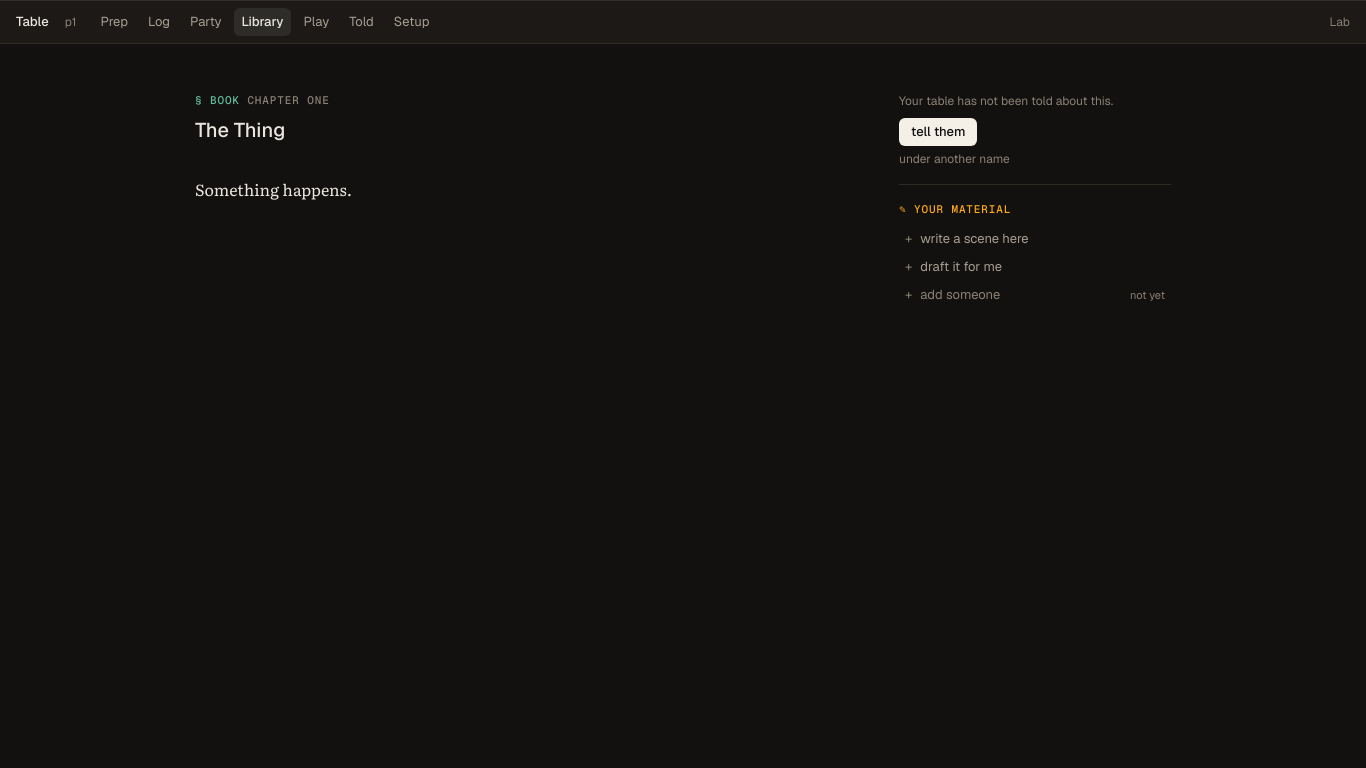
Test: storing an edited draft › shows the DM's edited words in the stored block, not the model's
Click the button "+ draft it for me" at [961, 266], box [899,253,1171,281]
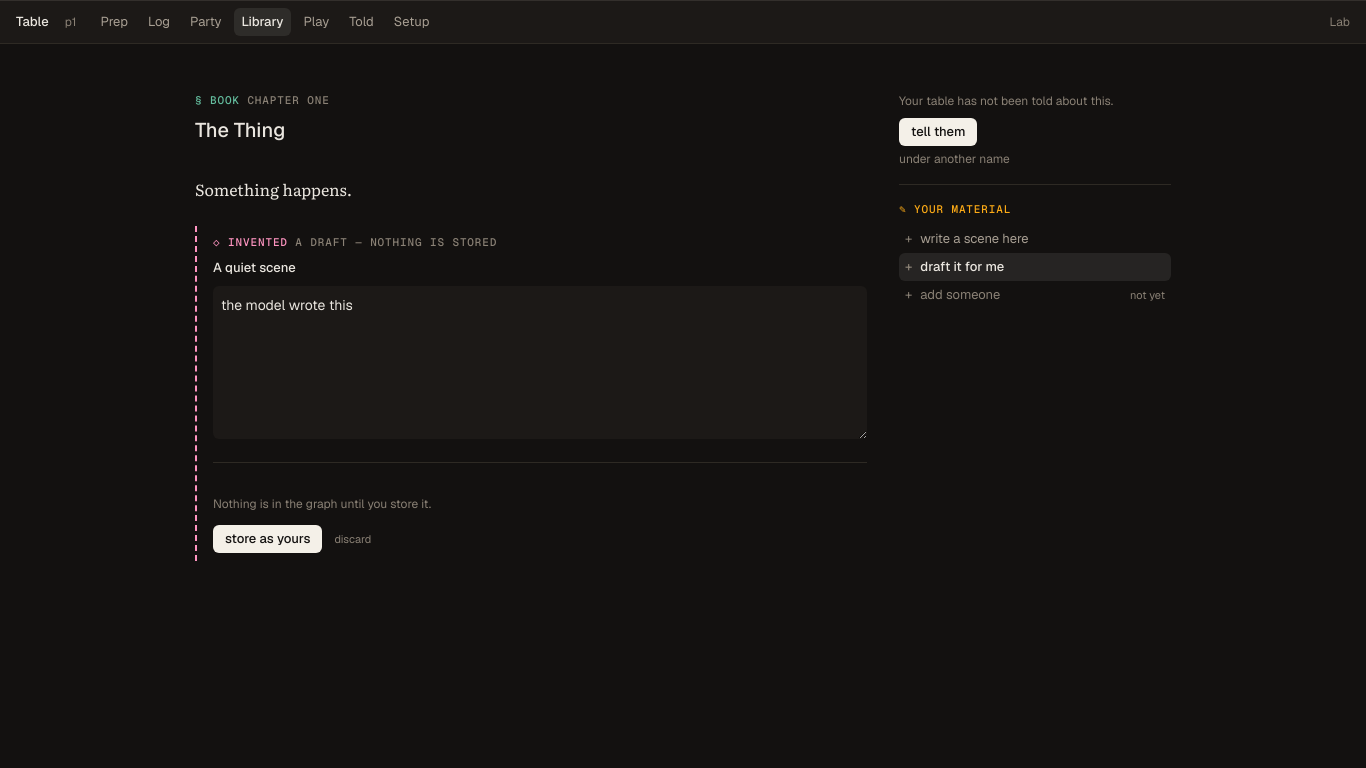
Replace the text in the text box showing "the model wrote this" with "the DM's own rewrite" at [540, 362], box [213,286,867,438]
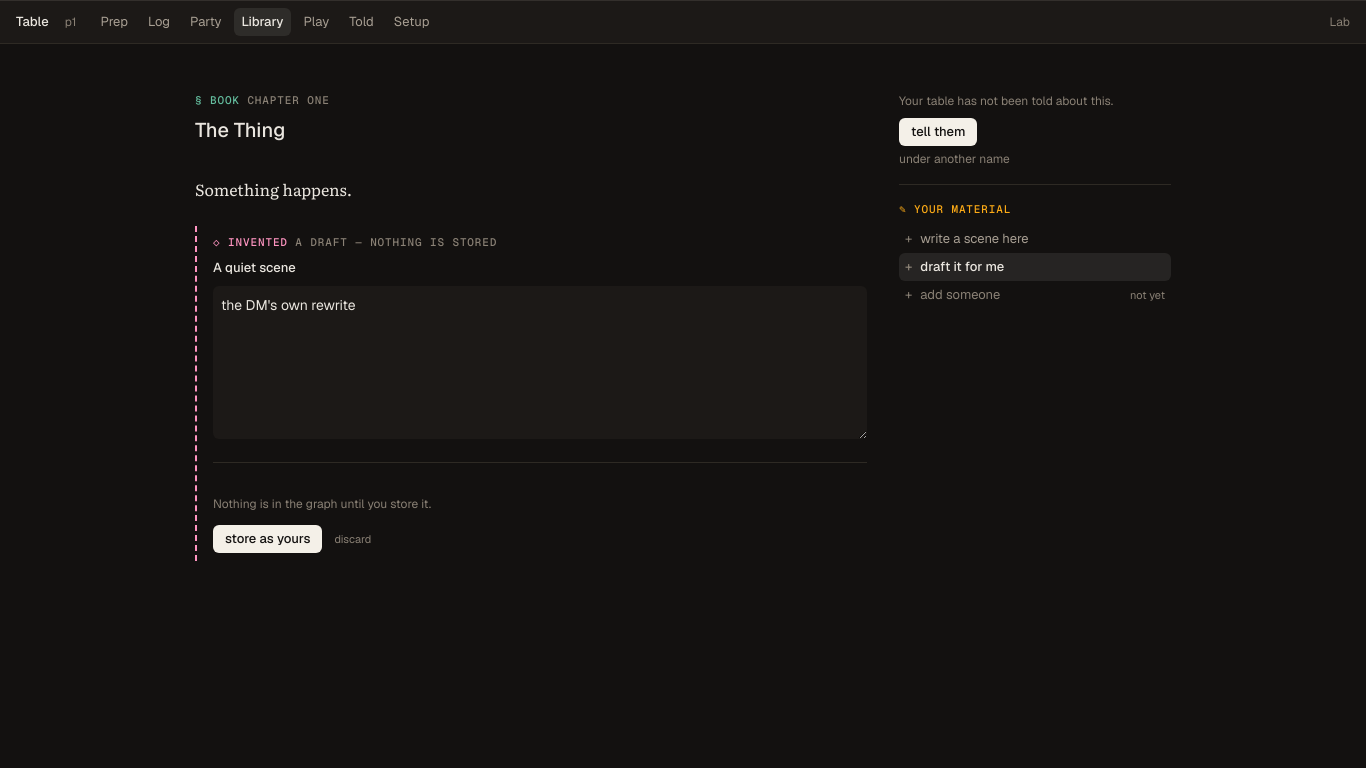
Click the button "store as yours" at [268, 538], box [213,524,322,552]
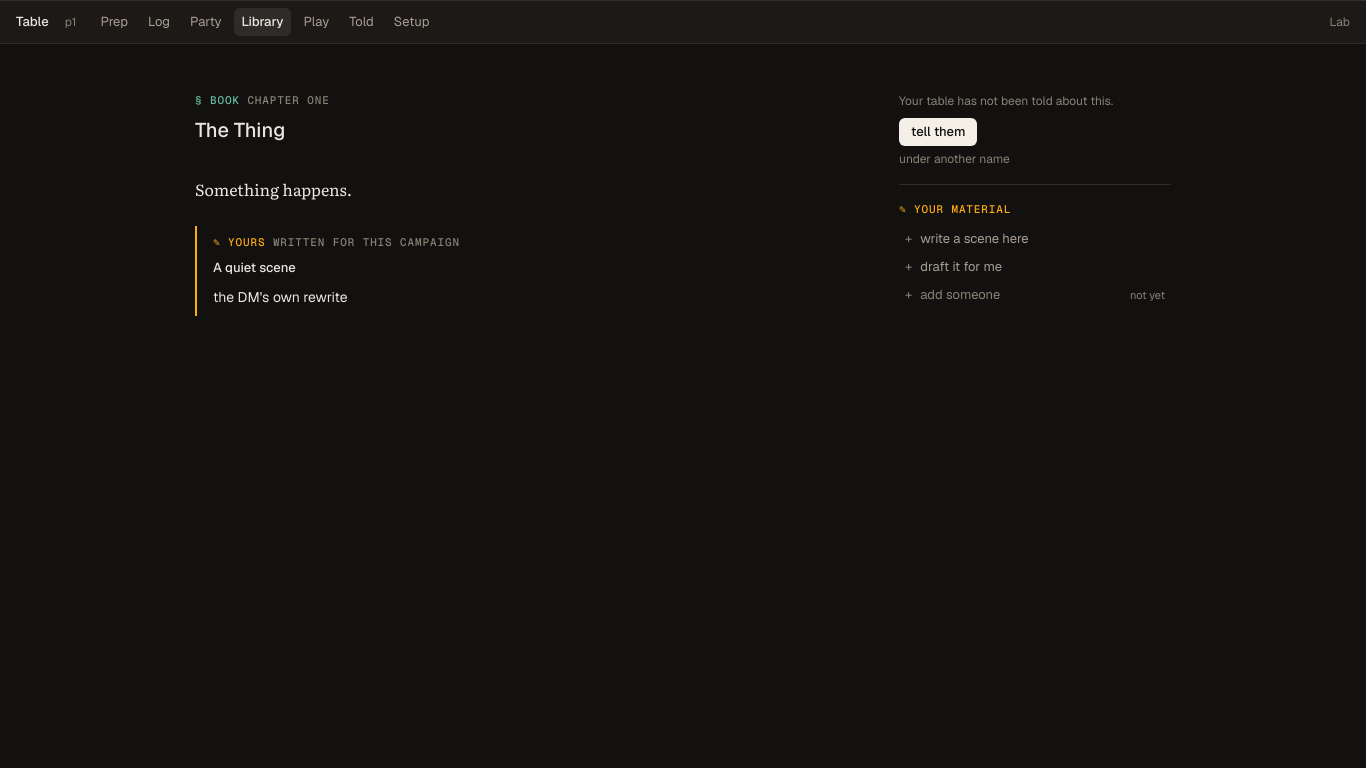
Expected: the button "store as yours" is gone
Expected: the text "the DM's own rewrite" is shown, [213,288,348,306]
Expected: the text "✎ YOURS" is shown, [213,235,265,249]
